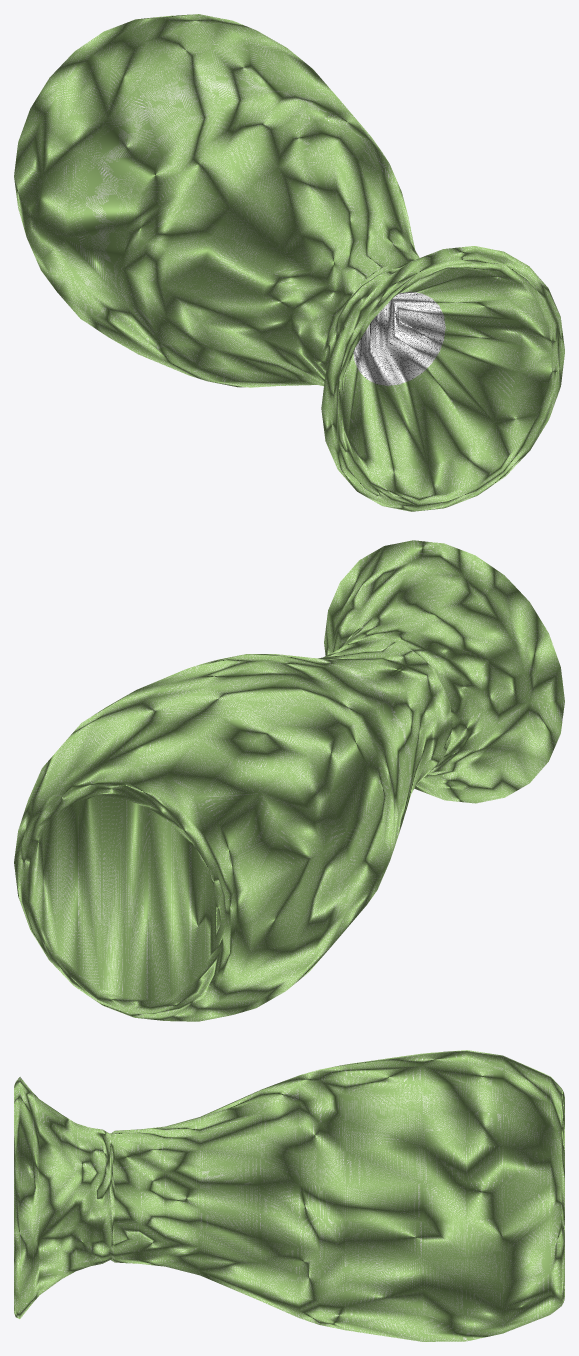
File: model_align.obj
3 renders of one model, top to bottom at view 1: azimuth 30°, elevation 25°; view 2: azimuth 150°, elevation 25°; view 3: azimuth 270°, elevation 25°, orthographic. The views are drawn at different scales.
Size of the model in its own units: 0.0712 by 0.0725 by 0.1361.
